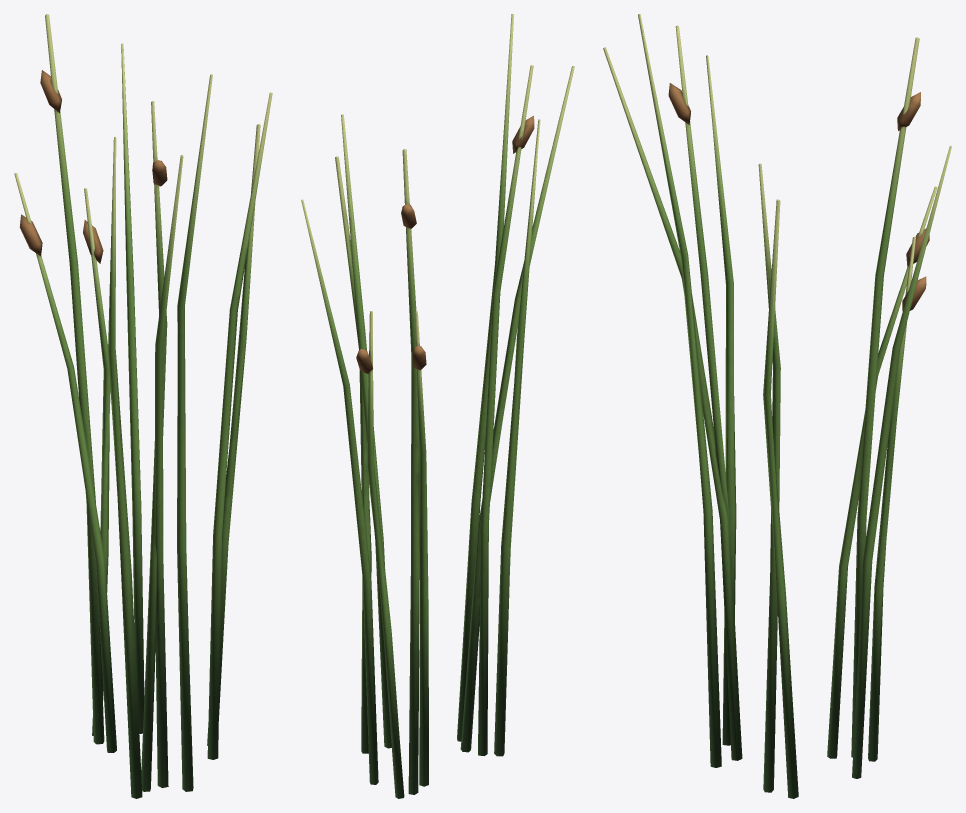
Rendered from Juncos.fbx.
3 renders of one model, left to right at view 1: azimuth 30°, elevation 25°; view 2: azimuth 150°, elevation 25°; view 3: azimuth 270°, elevation 25°, orthographic. The views are drawn at different scales.
Parts seen in each view (by area): view 1: Malla; view 2: Malla; view 3: Malla.
Part boxes in pixels (x1,y1,x2,y2): Malla: (14,14,272,798); Malla: (301,14,574,798); Malla: (603,14,951,798).
Size of the model in its own units: 0.5423 by 2.09 by 0.8889.
1 material, 1 textured.
